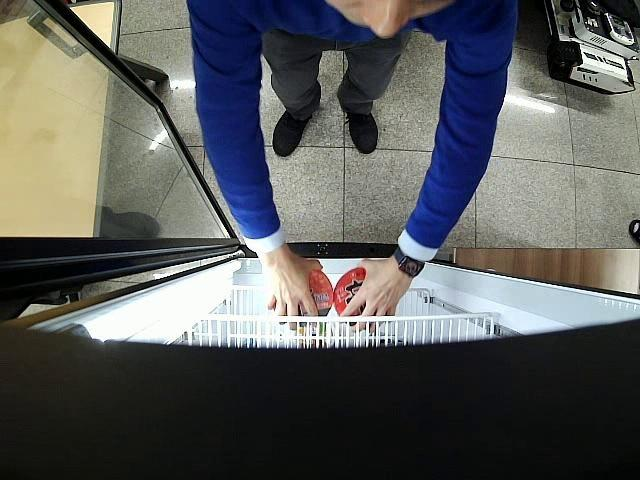01_ShinRamen_L: (298, 269, 334, 326), (334, 266, 365, 324)
